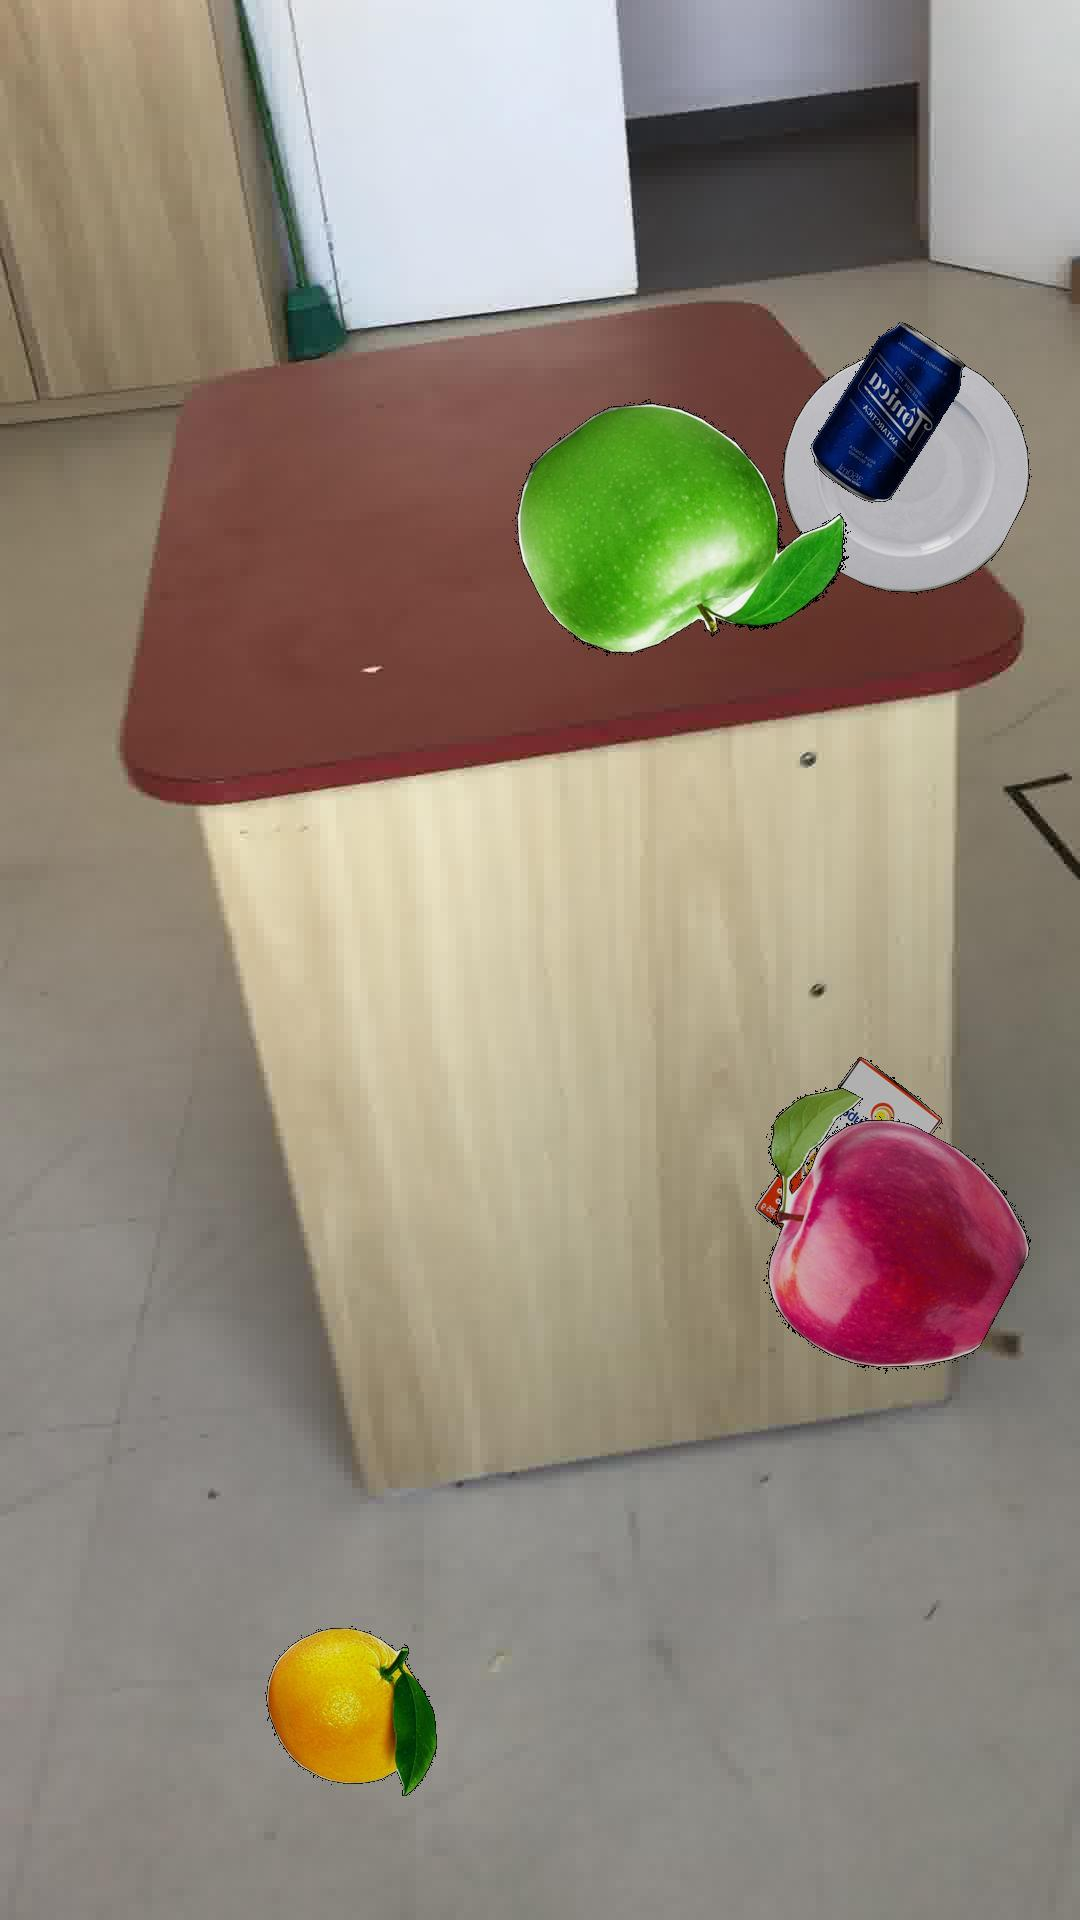apple: (766, 1084, 1027, 1369)
green apple: (514, 400, 848, 653)
orange: (265, 1626, 435, 1795)
plate: (781, 356, 1029, 593)
tonic: (808, 320, 964, 501)
